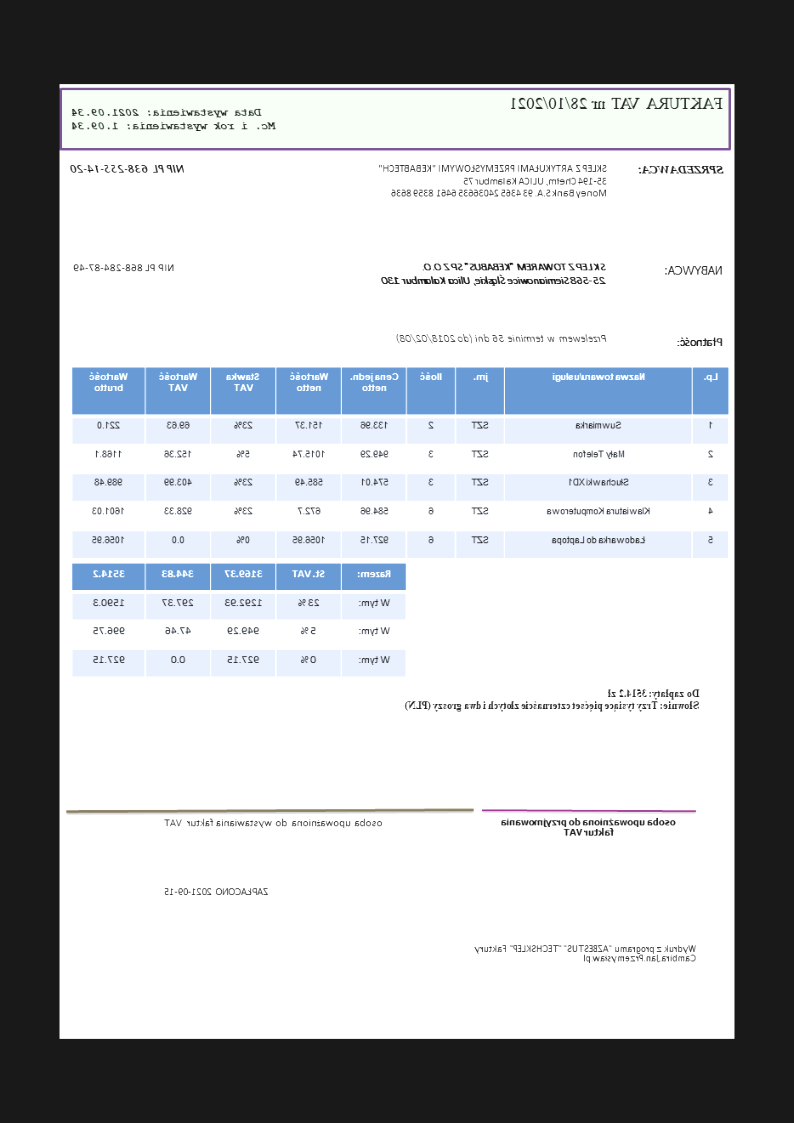Table: (71, 366, 730, 560), (71, 562, 408, 678)
TextBox: (377, 162, 610, 200), (404, 687, 702, 713), (70, 105, 279, 134), (380, 261, 609, 287), (473, 942, 699, 965), (498, 814, 678, 838), (508, 94, 725, 112), (163, 815, 385, 830), (395, 331, 609, 346), (69, 162, 187, 176), (164, 885, 271, 898), (72, 262, 176, 274), (637, 163, 726, 176), (664, 264, 725, 277), (675, 335, 725, 349)
